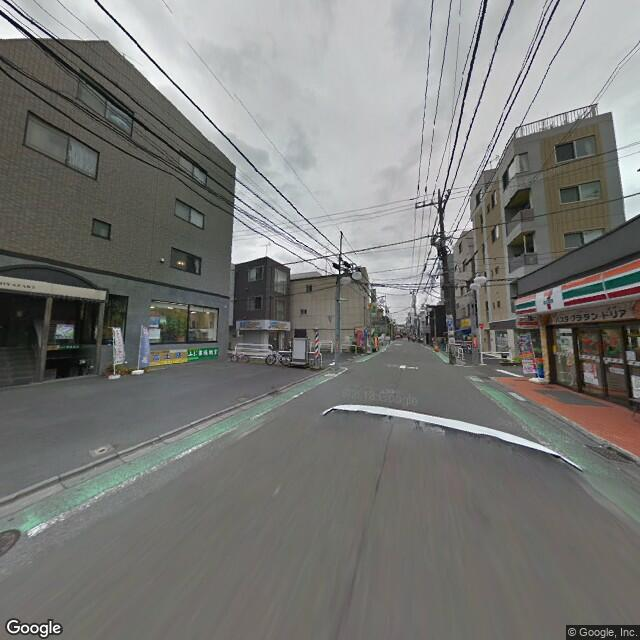7-eleven: (514, 255, 639, 323)
